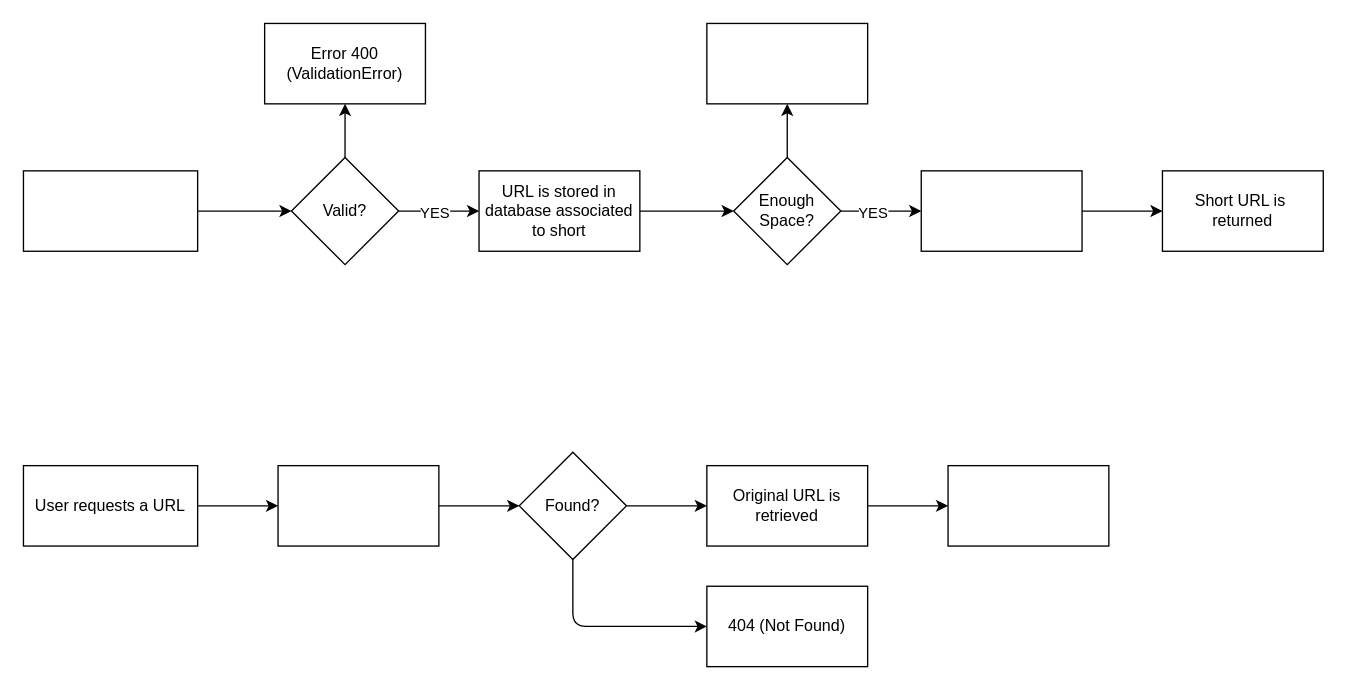
Image size: 1347x690. Some labels were removed from this diagram. Here are the shapes that lost their labels. From the top down, the box of each, then its label:
(706, 22, 868, 104): Error 503 (Service unavailable)
(22, 170, 198, 251): User inserts URL
(920, 170, 1082, 251): URL is stored
(277, 464, 439, 546): short is queried to the database
(947, 464, 1109, 546): User is redirected
